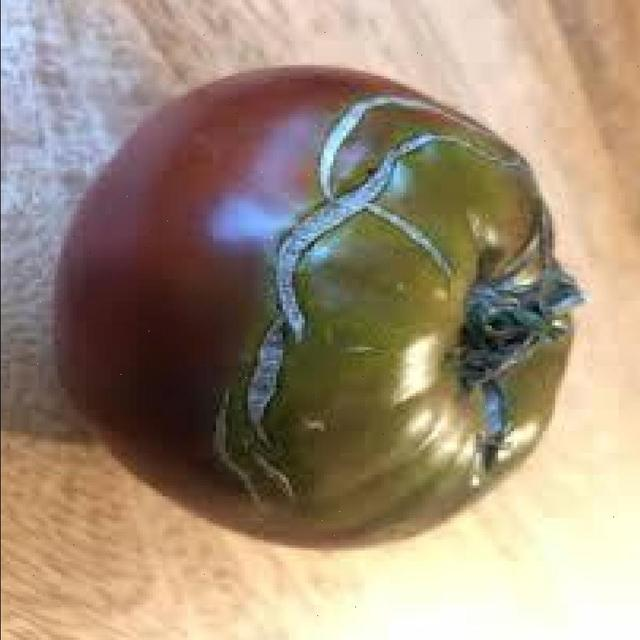Cracking Fruit: (62, 113, 319, 275)
